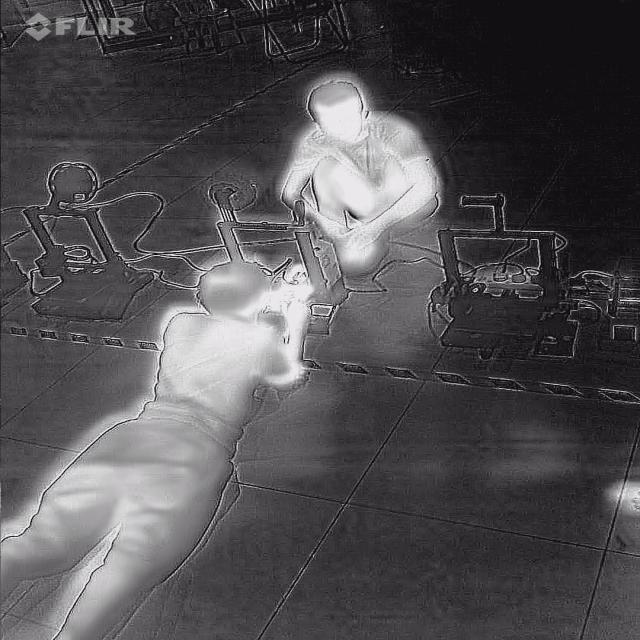Victim: (0, 242, 318, 638), (277, 74, 445, 280)
